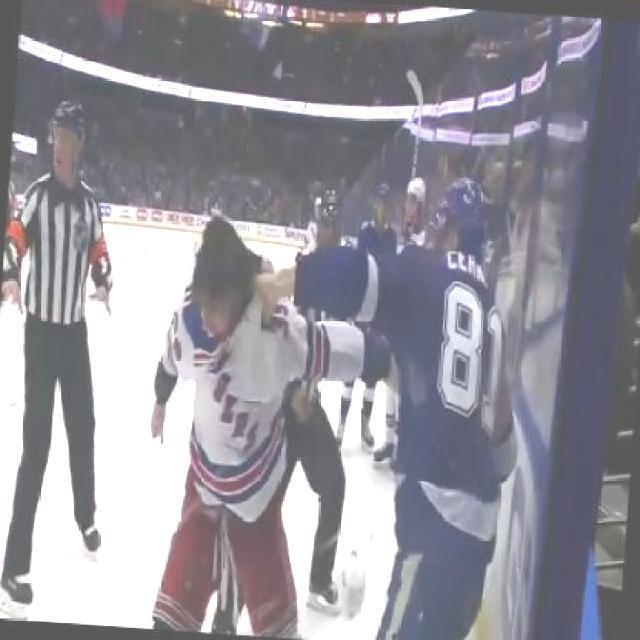fight: (228, 166, 540, 639), (136, 211, 412, 638)
non-fight: (12, 58, 134, 620)
